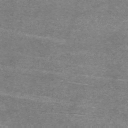finishing roll printing: (0, 28, 64, 44), (0, 92, 60, 104), (76, 75, 128, 82), (66, 113, 84, 117)
